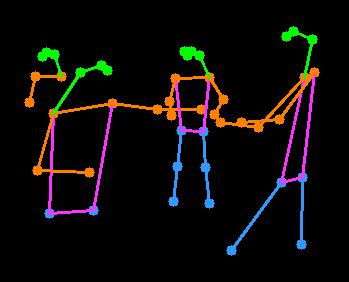normal: (159, 31, 232, 217)
